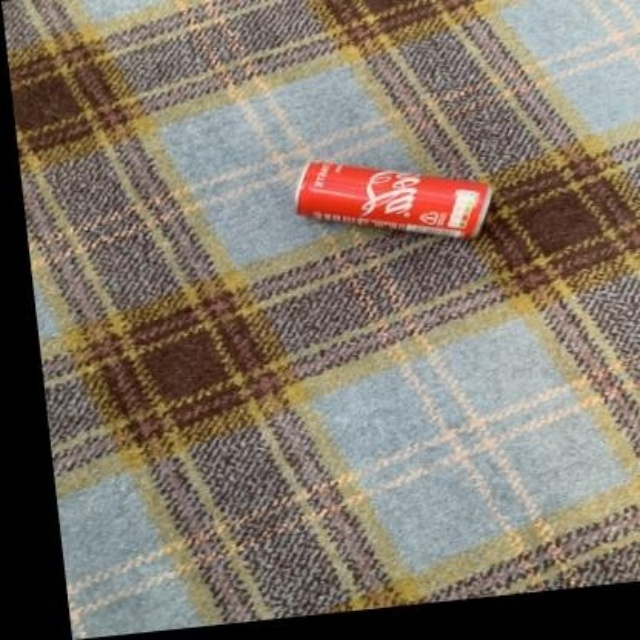trash: (295, 162, 491, 237)
